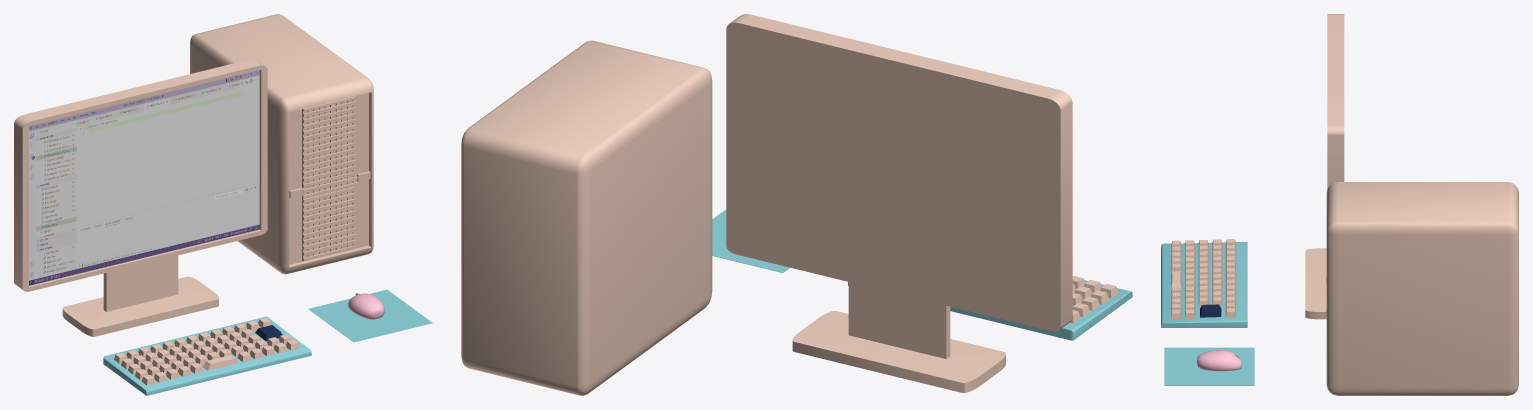
The model's file is pc_sample_02.glb.
3 renders of one model, left to right at view 1: azimuth 30°, elevation 25°; view 2: azimuth 150°, elevation 25°; view 3: azimuth 270°, elevation 25°, orthographic. The views are drawn at different scales.
Visible parts, largest first — view 1: plane, desktop, montor, key, keyboard, mousepad, mouse; view 2: montor, desktop, keyboard, key, mousepad; view 3: desktop, montor, keyboard, key, mousepad, mouse.
Part boxes in pixels (<box>): plane: <box>29,70,259,285</box>; desktop: <box>190,14,373,274</box>; montor: <box>14,59,267,336</box>; key: <box>114,317,299,385</box>; keyboard: <box>103,316,311,395</box>; mousepad: <box>308,289,432,342</box>; mouse: <box>348,293,384,319</box>; montor: <box>726,14,1072,392</box>; desktop: <box>461,40,712,395</box>; keyboard: <box>848,280,1132,340</box>; key: <box>1070,276,1118,323</box>; mousepad: <box>712,209,789,272</box>; desktop: <box>1326,182,1518,395</box>; montor: <box>1305,14,1344,319</box>; keyboard: <box>1161,241,1247,327</box>; key: <box>1171,239,1236,319</box>; mousepad: <box>1164,347,1254,385</box>; mouse: <box>1197,350,1241,371</box>.
Size of what is drawn, in the model's own units: 2.89 by 1.72 by 2.56.
8 materials, 1 textured.
